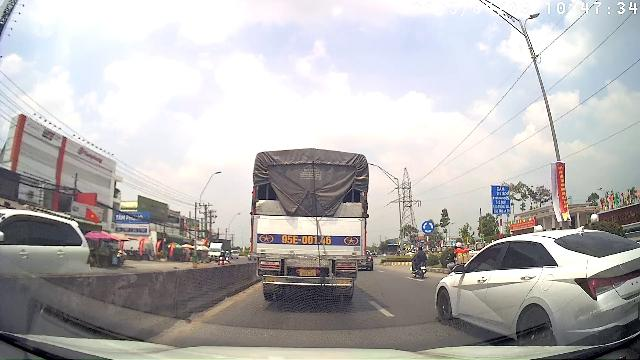303-noi-giao-nhau-chay-theo-vong-xuyen: (422, 220, 434, 234)
